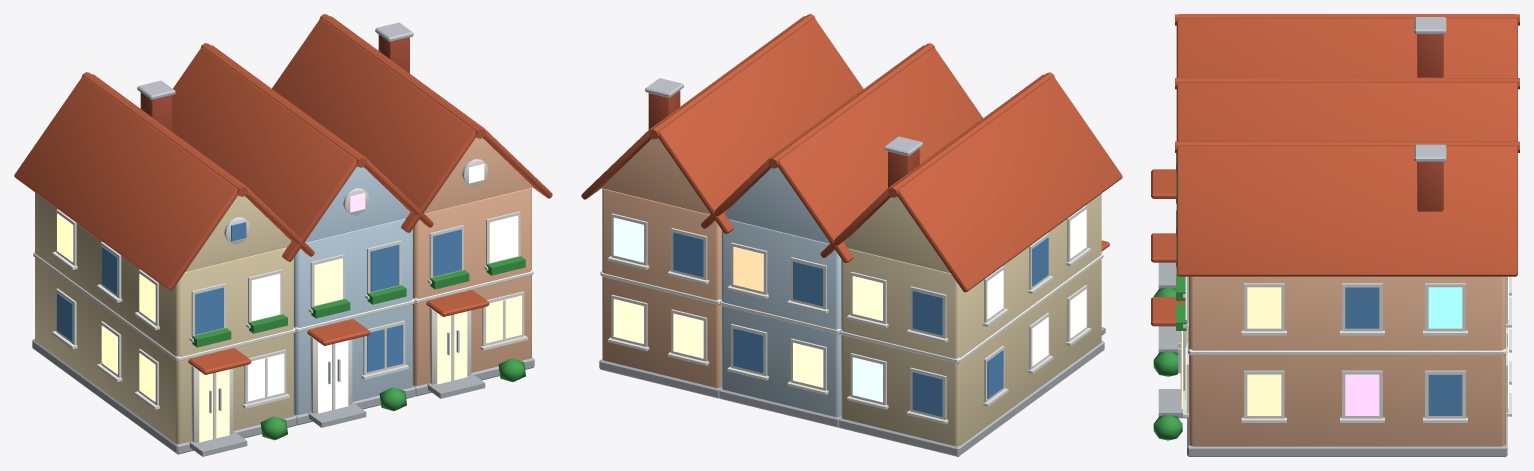
Rendered from casas_geminadas_pastel.glb.
3 renders of one model, left to right at view 1: azimuth 30°, elevation 25°; view 2: azimuth 150°, elevation 25°; view 3: azimuth 270°, elevation 25°, orthographic. The views are drawn at different scales.
Visible parts, largest first — view 1: casas_geminadas_pastel; view 2: casas_geminadas_pastel; view 3: casas_geminadas_pastel.
Boxes of the visible parts, x1,y1,x2,y2 form: casas_geminadas_pastel: [14, 14, 552, 456]; casas_geminadas_pastel: [581, 14, 1122, 456]; casas_geminadas_pastel: [1151, 14, 1519, 456].
Size of the model in its own units: 12.95 by 8.5 by 9.77.
7 materials, 1 textured.
